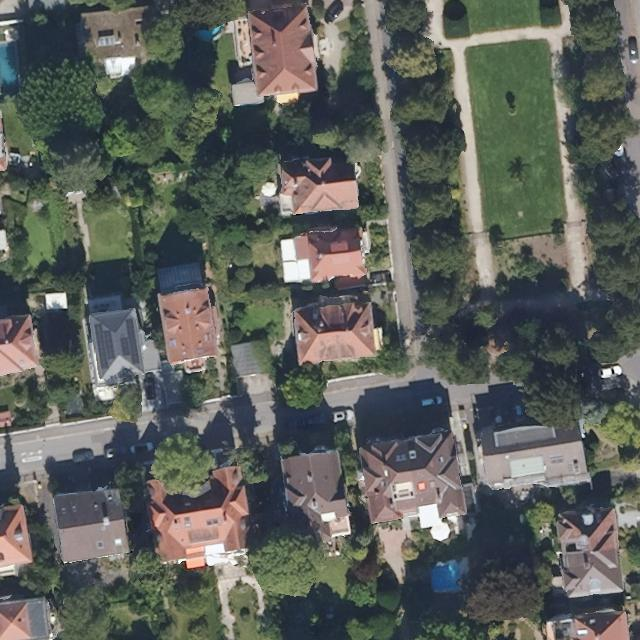PV: (94, 322, 116, 370), (119, 318, 141, 366)
